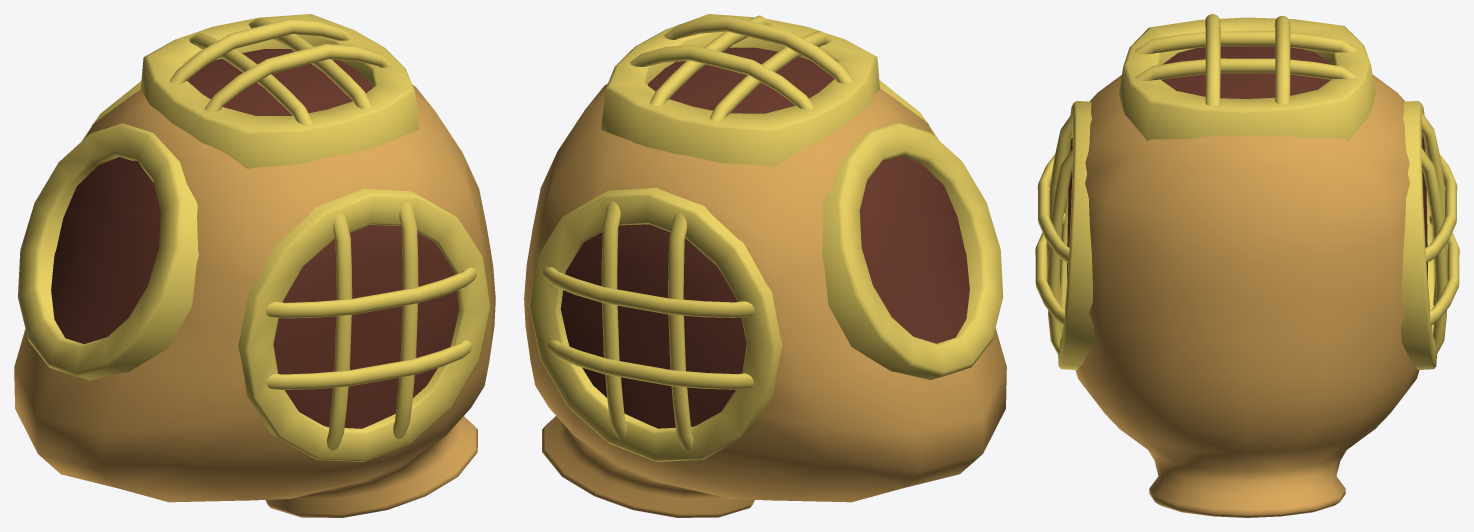
File: divinghelmet.fbx
The picture shows the model from 3 angles, left to right: view 1: azimuth 30°, elevation 25°; view 2: azimuth 150°, elevation 25°; view 3: azimuth 270°, elevation 25°; orthographic projection. The views are drawn at different scales.
Parts seen in each view (by area): view 1: divinghelmet; view 2: divinghelmet; view 3: divinghelmet.
Part boxes in pixels (x1=…): divinghelmet: x1=14, y1=14, x2=495, y2=517; divinghelmet: x1=524, y1=14, x2=1006, y2=517; divinghelmet: x1=1035, y1=14, x2=1459, y2=517.
Size of the model in its own units: 149 by 154 by 134.
